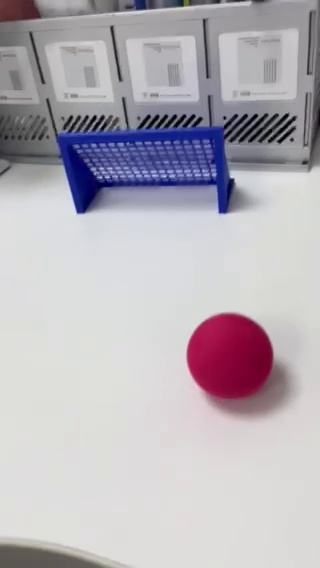goal: (54, 125, 234, 216)
redball: (185, 311, 274, 400)
